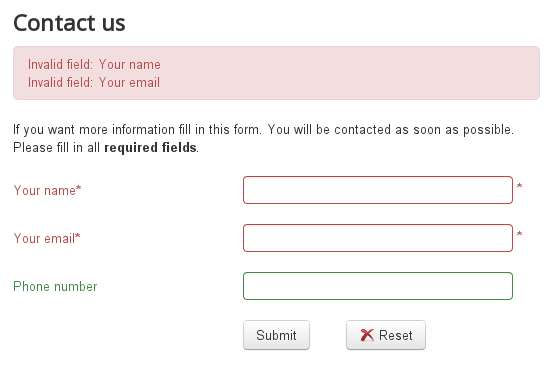error_field: (242, 223, 515, 253), (241, 175, 514, 204)
error_message: (26, 58, 162, 89), (12, 182, 84, 197), (14, 232, 80, 244)
